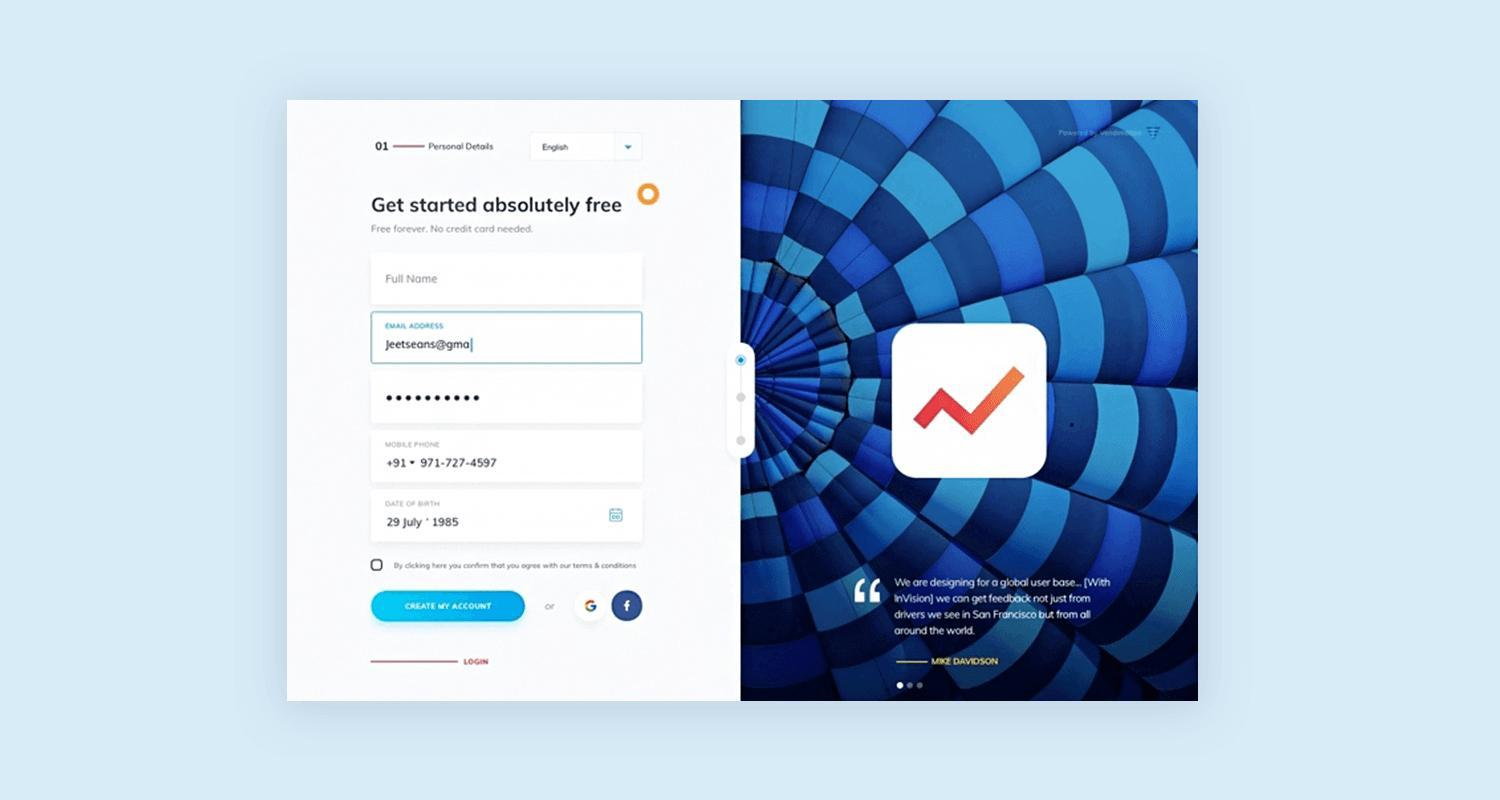button: (373, 591, 526, 623)
checkbox: (372, 559, 385, 573)
dropdown: (531, 134, 643, 164)
icon: (611, 590, 647, 625), (575, 591, 609, 626)
input: (369, 251, 645, 305), (373, 312, 643, 365), (369, 374, 644, 424), (373, 434, 644, 483), (373, 495, 644, 543)
label: (393, 561, 639, 571)
